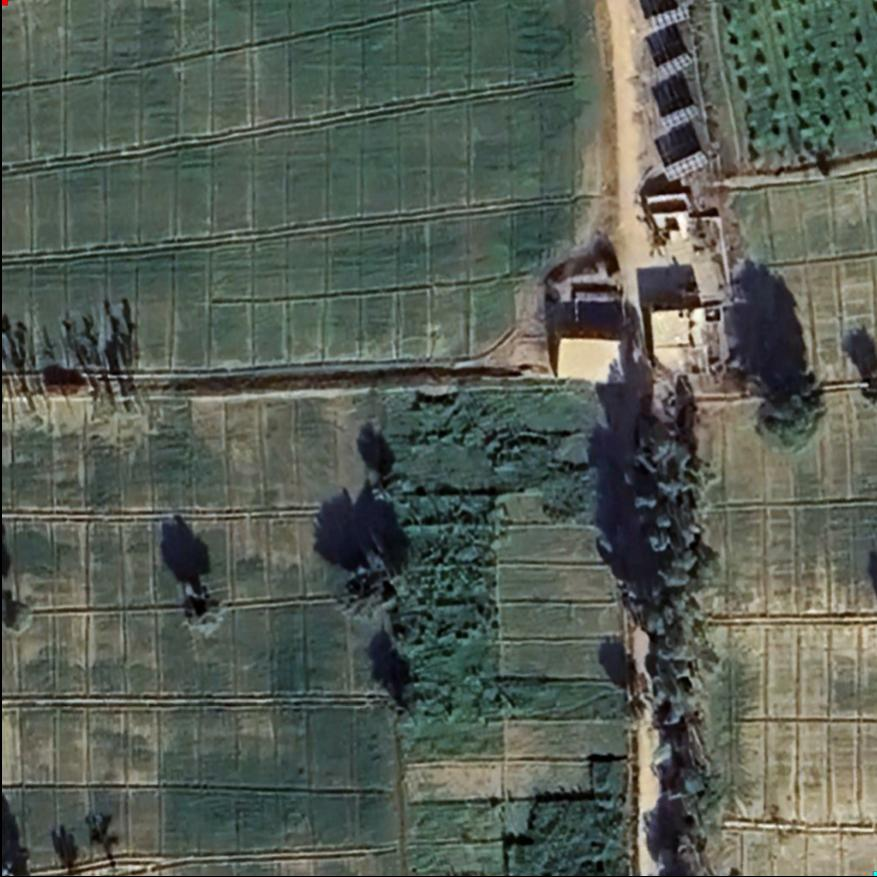Solarpanel: (643, 45, 702, 92), (638, 0, 696, 41), (658, 147, 712, 186), (652, 100, 708, 132)
